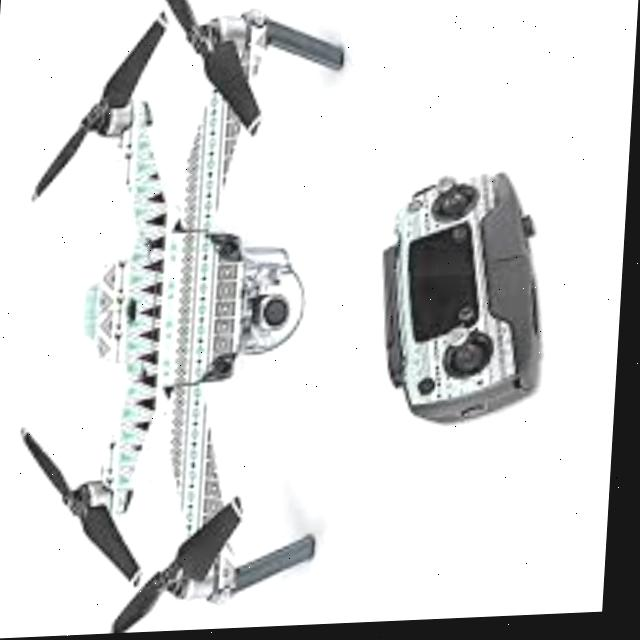drone: (4, 0, 368, 639)
